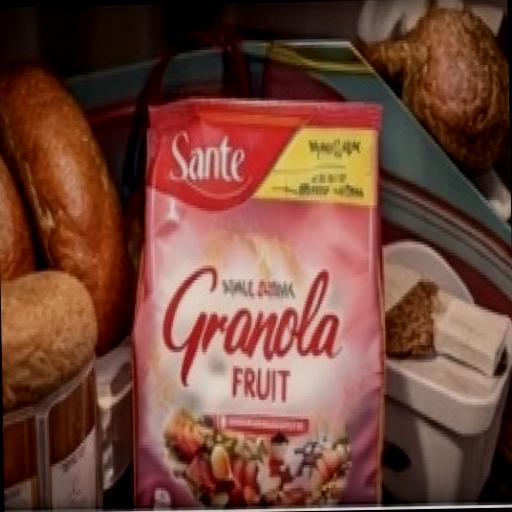granola: (119, 80, 426, 512)
